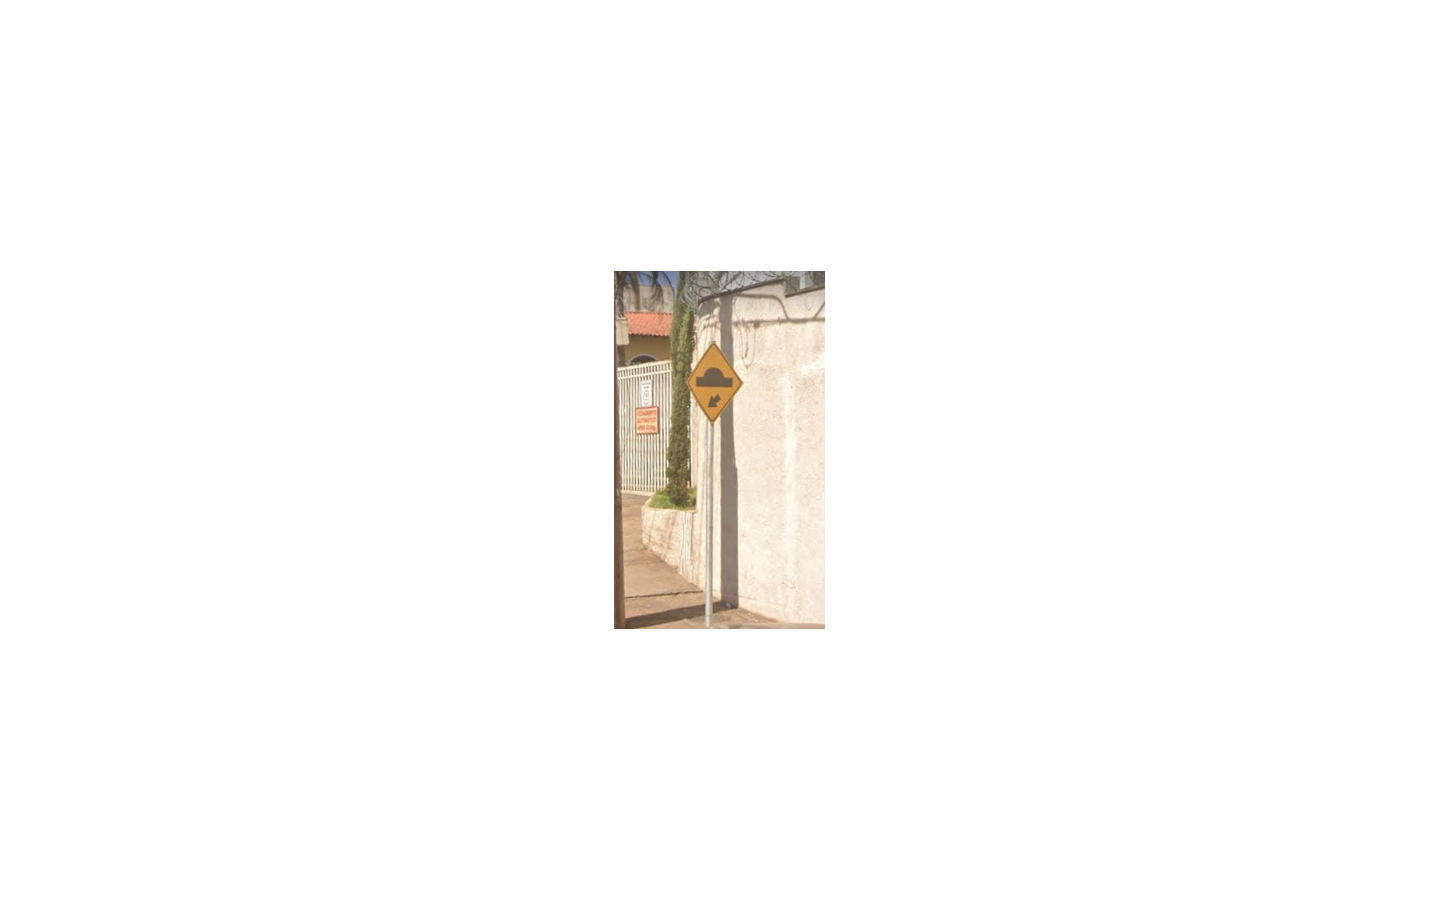lomb: (686, 343, 743, 426)
